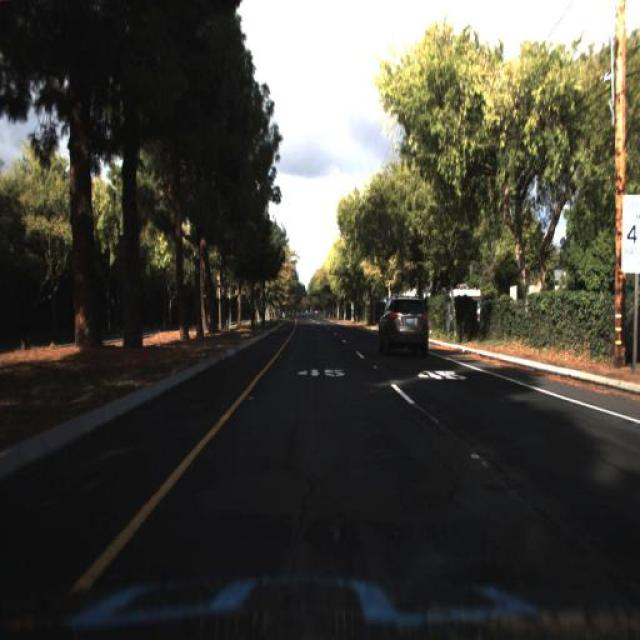car: (374, 293, 430, 362)
